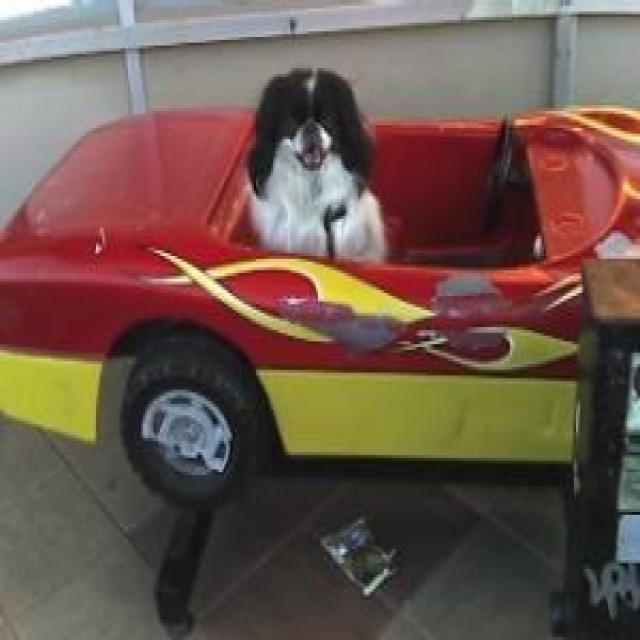husky: (248, 69, 388, 268)
